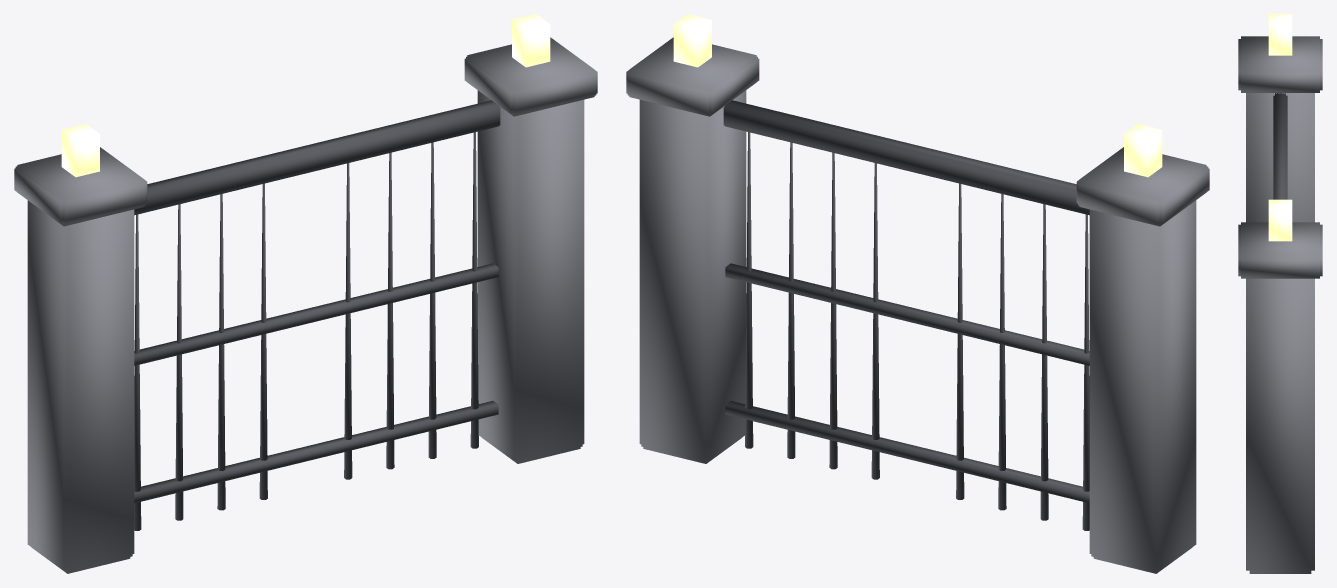
The model's file is iron-gate.glb.
3 renders of one model, left to right at view 1: azimuth 30°, elevation 25°; view 2: azimuth 150°, elevation 25°; view 3: azimuth 270°, elevation 25°, orthographic. The views are drawn at different scales.
Parts seen in each view (by area): view 1: IronGate; view 2: IronGate; view 3: IronGate.
Part boxes in pixels (left/top/right/bottom): IronGate: left=14, top=14, right=597, bottom=573; IronGate: left=626, top=14, right=1209, bottom=573; IronGate: left=1238, top=14, right=1322, bottom=573.
Size of the model in its own units: 5.72 by 4.29 by 0.92.
